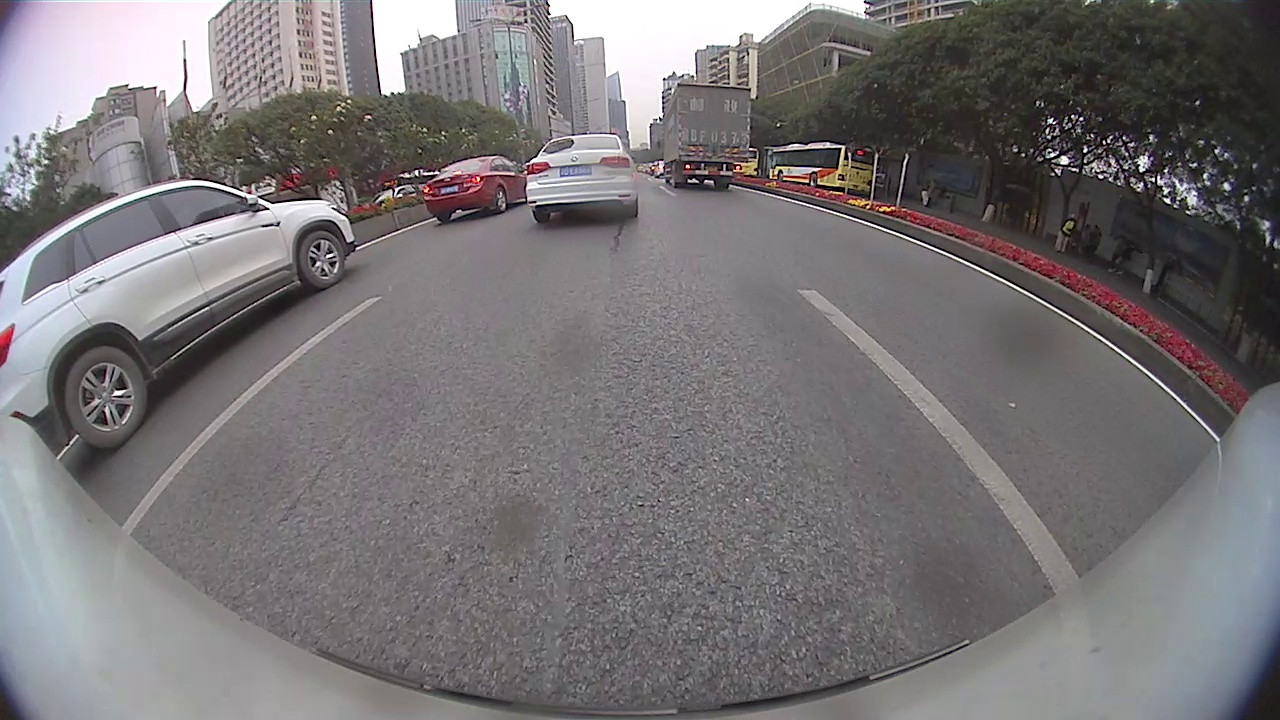bus: (766, 142, 880, 193), (734, 144, 760, 177)
car: (1, 177, 357, 449), (525, 132, 640, 225), (425, 154, 527, 224)
front: (297, 231, 345, 289)
rear: (23, 317, 170, 475), (494, 185, 508, 213), (809, 172, 819, 189)
truck: (660, 82, 752, 190)
